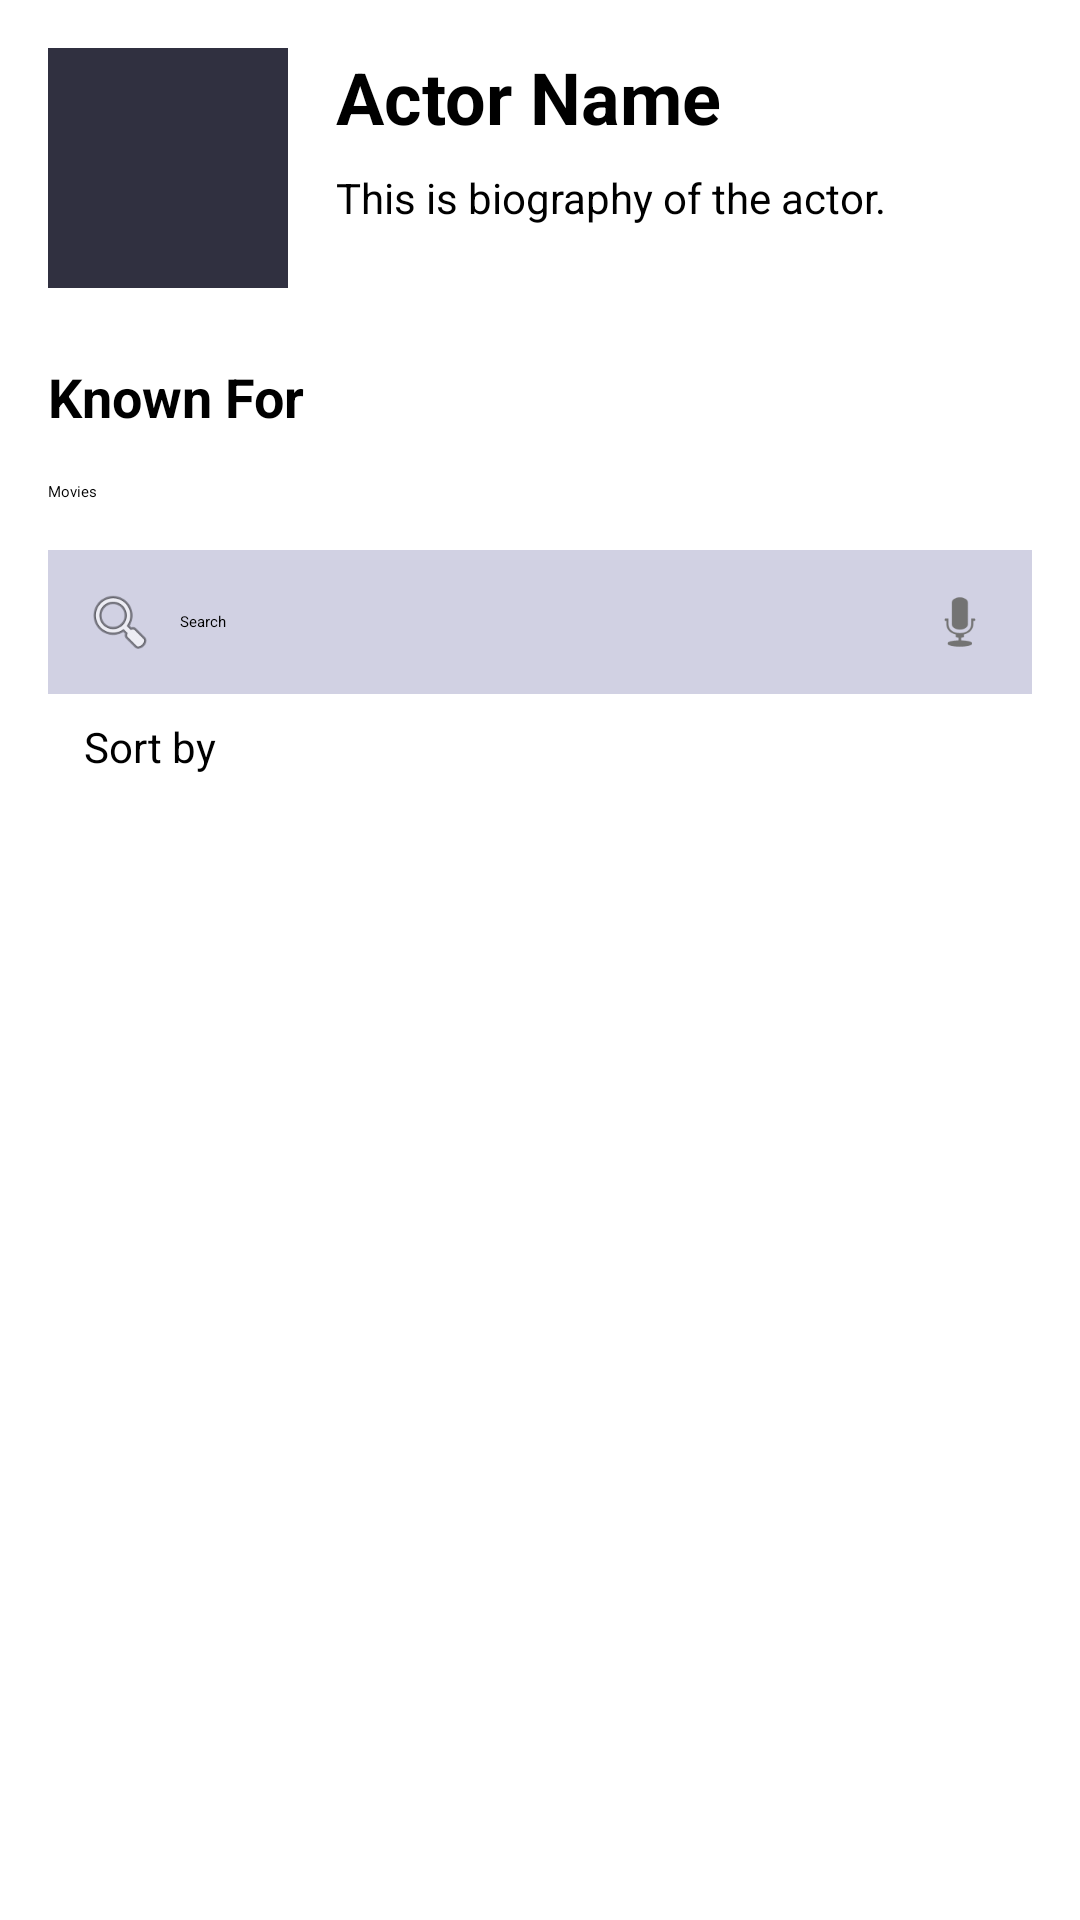

Where icons sit on this 1080w x 1920h app screen, as (x1, y1, x2, y2):
speak now: (944, 597, 976, 647)
